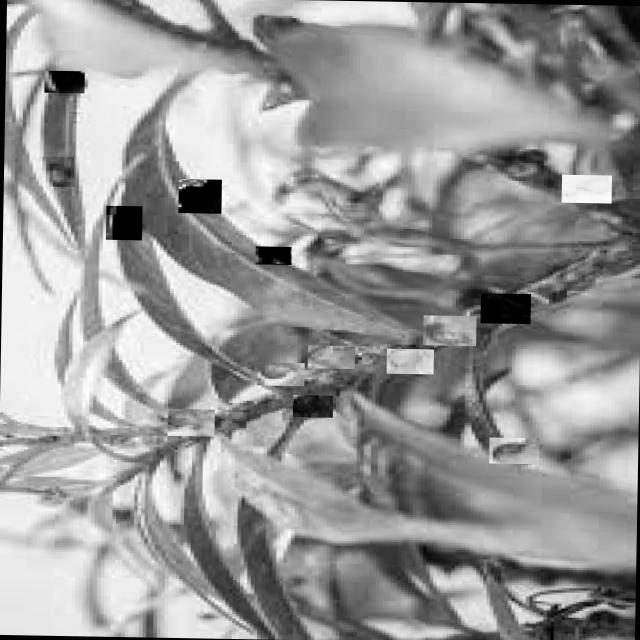scale_insect: (422, 314, 476, 346), (478, 292, 530, 324), (177, 179, 220, 214), (560, 174, 610, 203), (488, 437, 538, 464), (166, 408, 213, 436), (105, 205, 142, 240), (386, 348, 432, 374), (306, 344, 354, 368), (37, 156, 74, 187), (256, 362, 303, 386), (292, 394, 332, 418), (43, 70, 83, 93), (254, 246, 290, 265)
